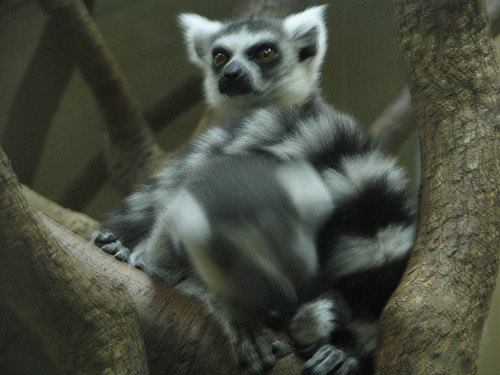cat: (90, 8, 414, 374)
